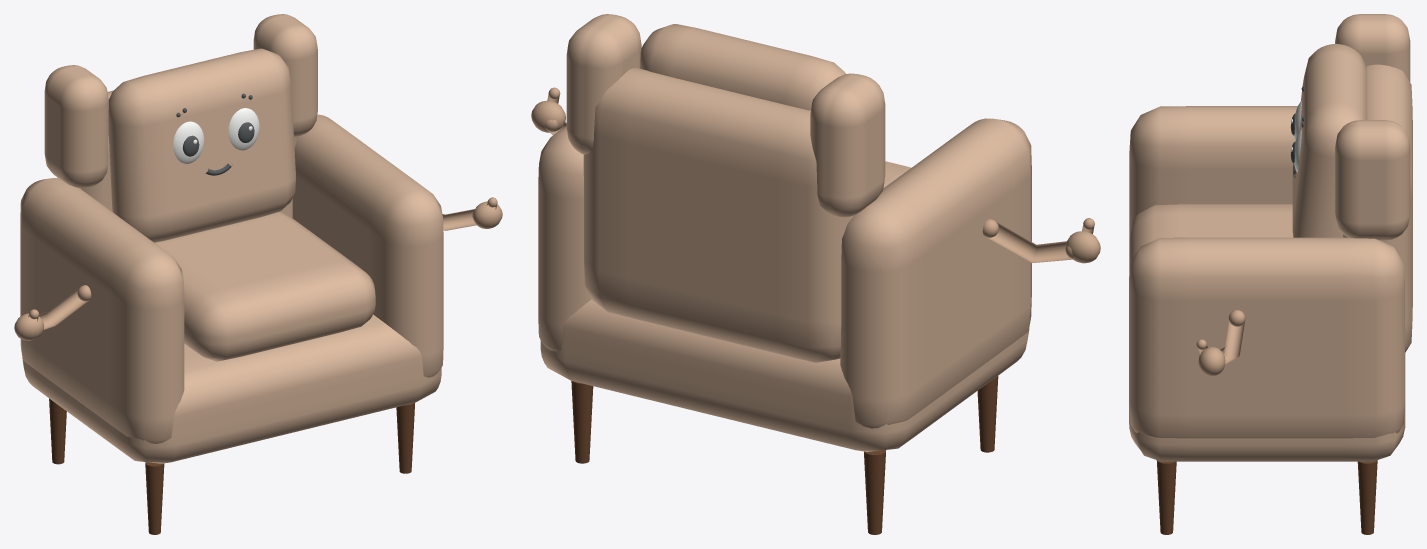
The model's file is armchair.glb.
3 views of the same model, side by side, from view 1: azimuth 30°, elevation 25°; view 2: azimuth 150°, elevation 25°; view 3: azimuth 270°, elevation 25° (orthographic). The views are drawn at different scales.
Visible parts, largest first — view 1: fabric, frame, armL, armR, eyeballR, eyeballL; view 2: fabric, frame, armL, armR; view 3: fabric, frame, armR.
Boxes of the visible parts, <box> form: fabric: <box>20,14,443,463</box>; frame: <box>49,398,414,534</box>; armL: <box>14,285,91,340</box>; armR: <box>442,197,502,230</box>; eyeballR: <box>228,108,259,150</box>; eyeballL: <box>173,121,204,163</box>; fabric: <box>538,14,1031,451</box>; frame: <box>571,376,998,534</box>; armL: <box>982,218,1100,263</box>; armR: <box>531,87,566,135</box>; fabric: <box>1129,14,1412,461</box>; frame: <box>1156,460,1377,534</box>; armR: <box>1196,310,1245,376</box>.
Bounding box in the file's own units: 2.32 × 1.75 × 1.13.
